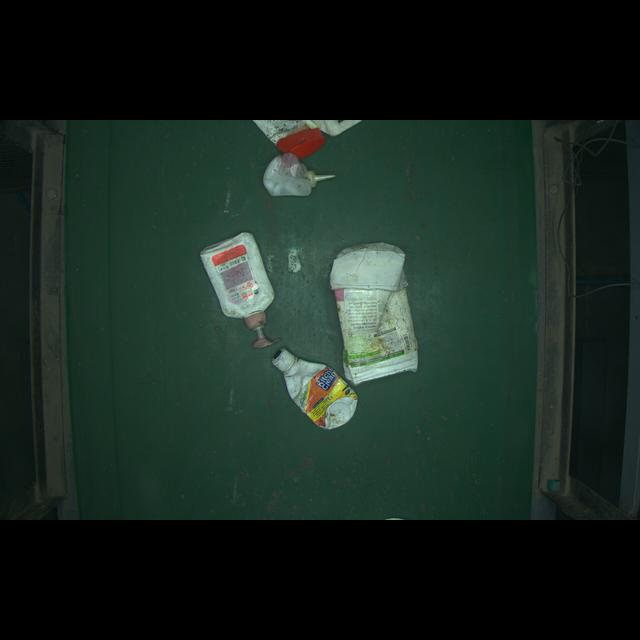mix PET: (325, 236, 446, 398), (193, 224, 292, 351), (259, 340, 366, 436), (256, 152, 338, 199)
